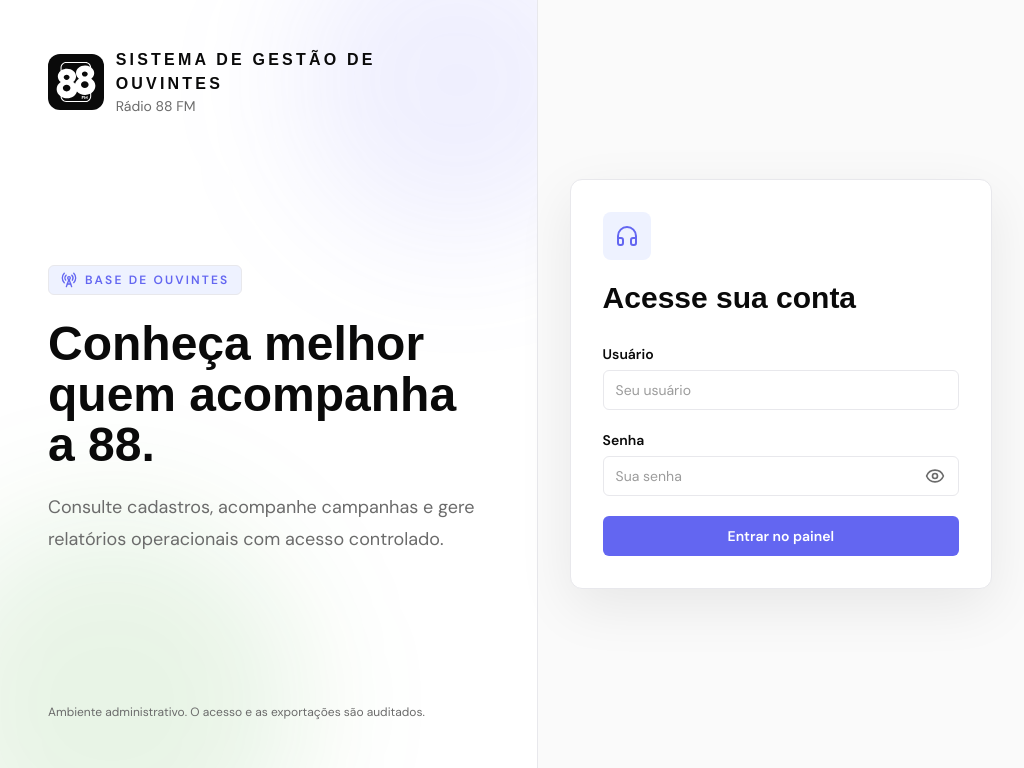
Test: App › realiza login e abre o dashboard
This screenshot has width=1024, height=768.
Type "admin" into the field labelled "Usuário" at (781, 390), box [603,370,959,410]
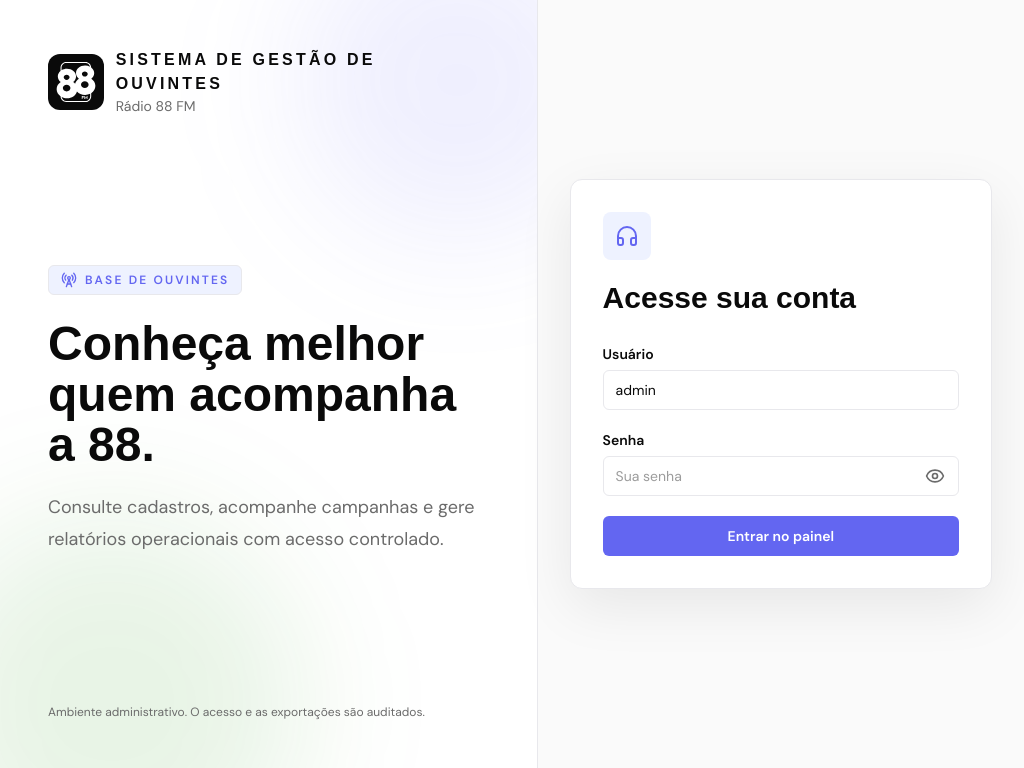
Type "development-admin-password" into the password field labelled "Senha" at (781, 476), box [603,456,959,496]
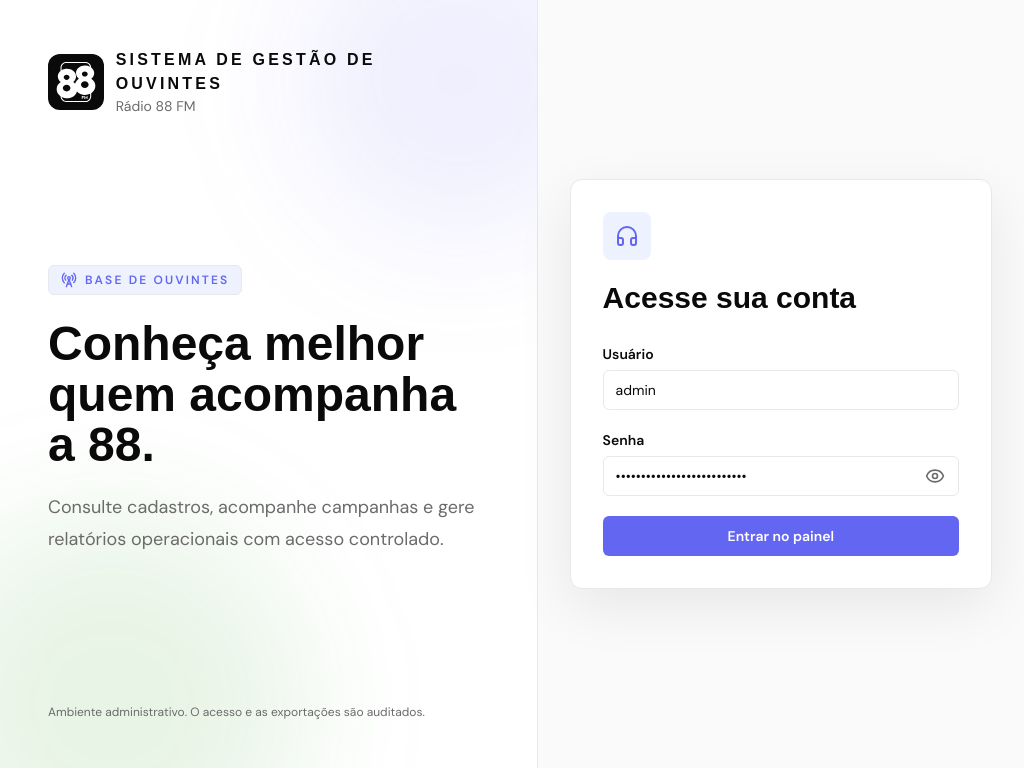
Click the button "Entrar no painel" at (781, 536), box [603,516,959,556]
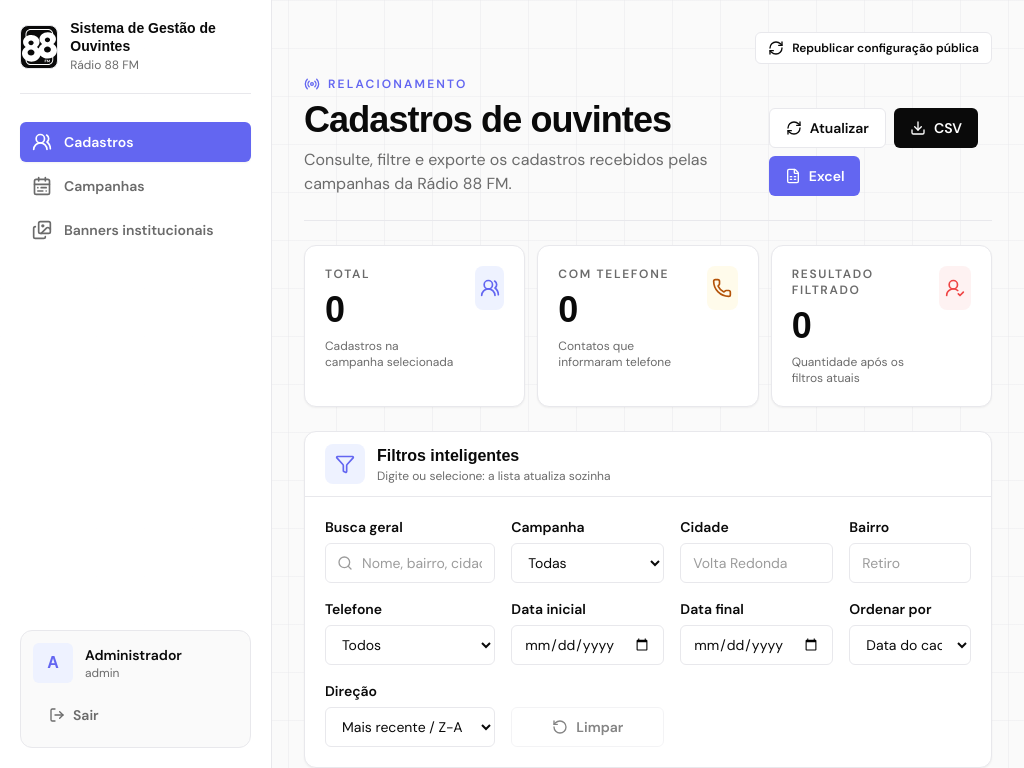
Expected: the heading "Cadastros de ouvintes" is shown, [304,99,671,140]
